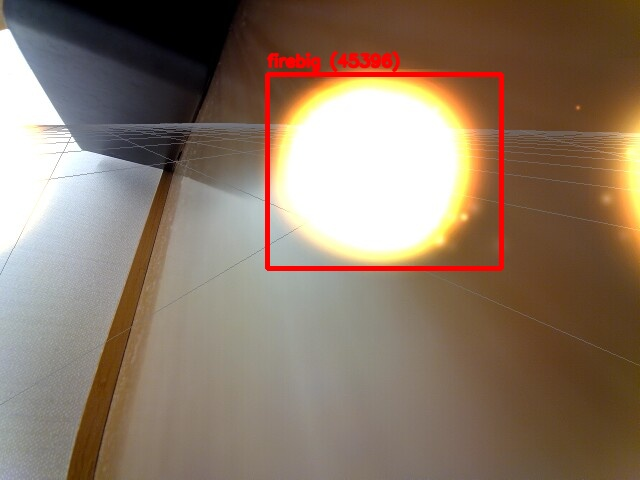firebig: (267, 74, 501, 268)
